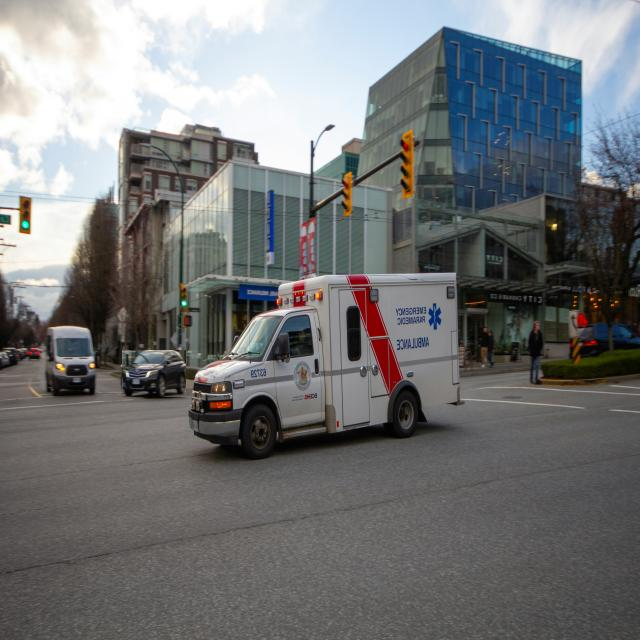car: (45, 326, 96, 396), (122, 350, 185, 397)
emergency: (188, 272, 460, 458)
